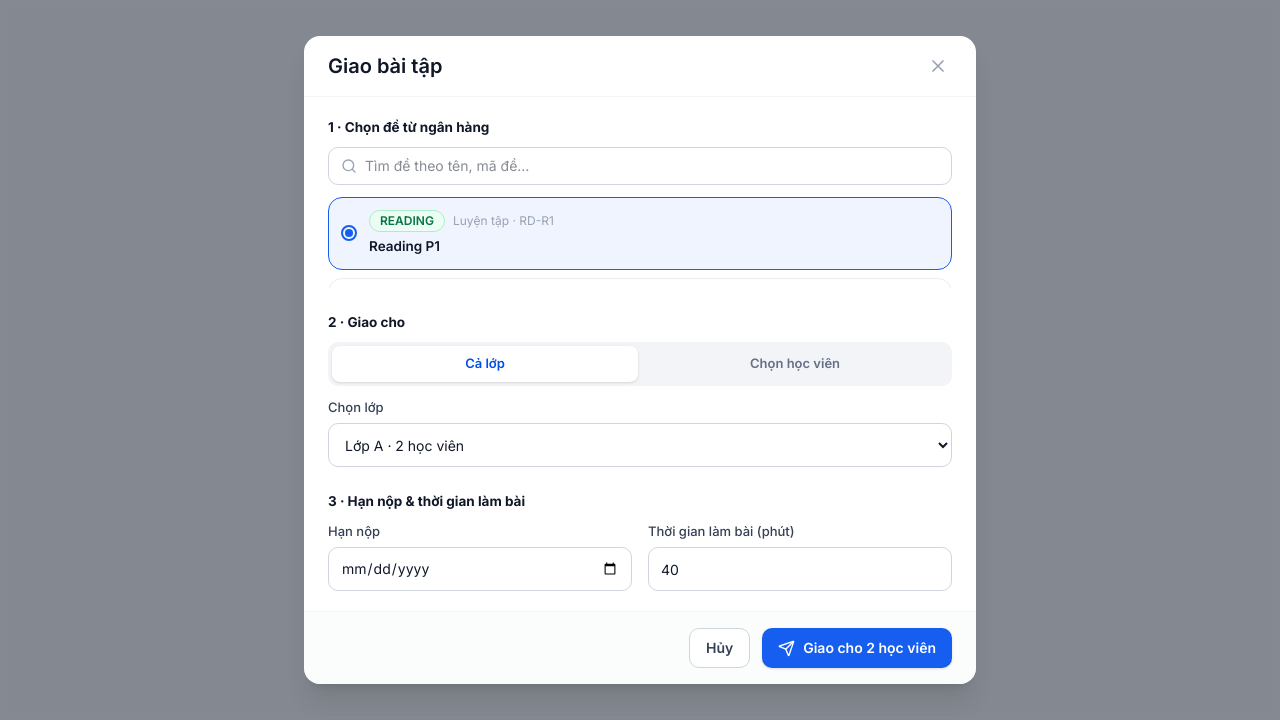
Test: AssignDialog — time limit › disables submit and warns when the value is out of range
This screenshot has width=1280, height=720.
expect the button with test id "assign-submit-btn" is enabled: met, box top-left (762, 628), bottom-right (952, 668)
Replace the text in the number field with test id "assign-time-limit-input" with "300" at (800, 569), box top-left (648, 547), bottom-right (952, 591)
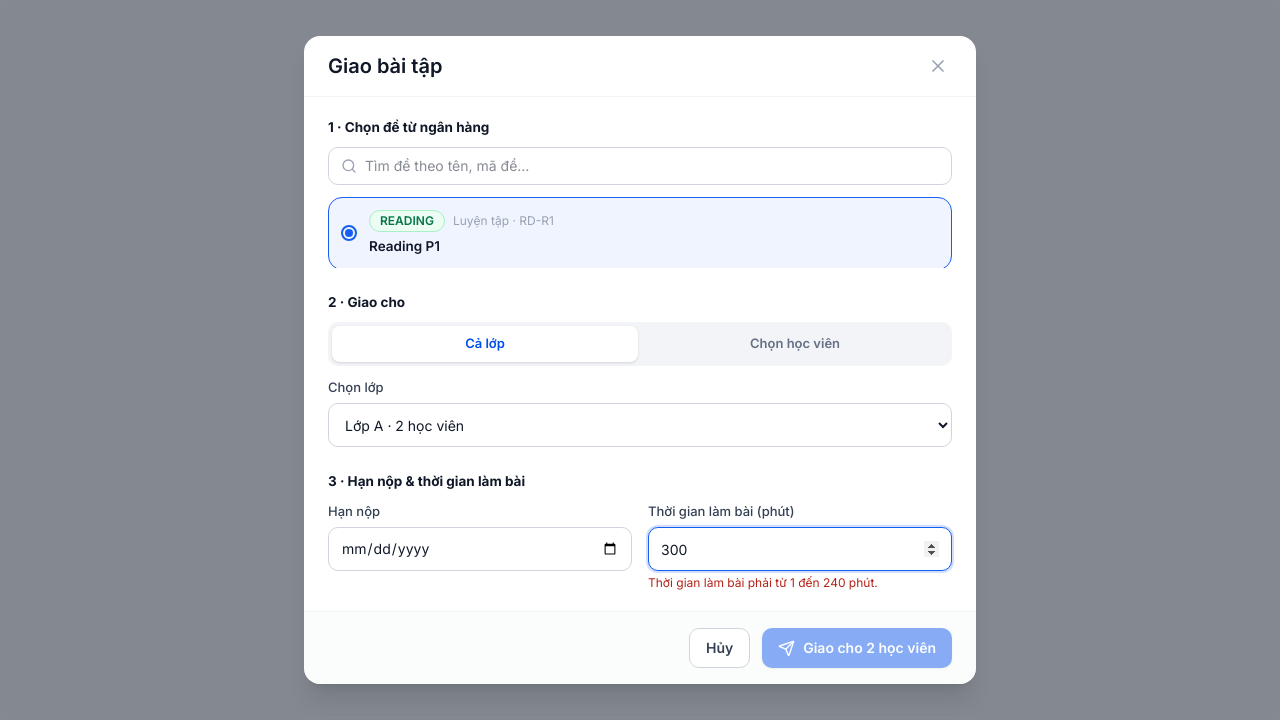
expect the button with test id "assign-submit-btn" is disabled: met, box top-left (762, 628), bottom-right (952, 668)
expect the text "Thời gian làm bài phải từ 1 đến 240 phút." is shown: met, box top-left (648, 575), bottom-right (878, 590)
